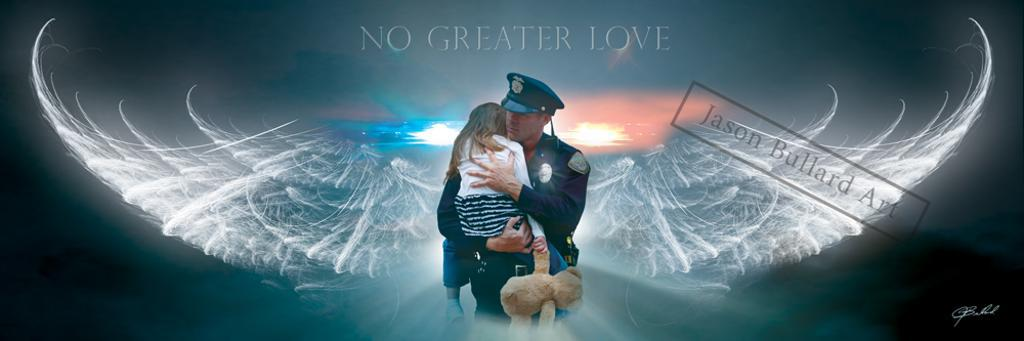face: (507, 100, 542, 141)
